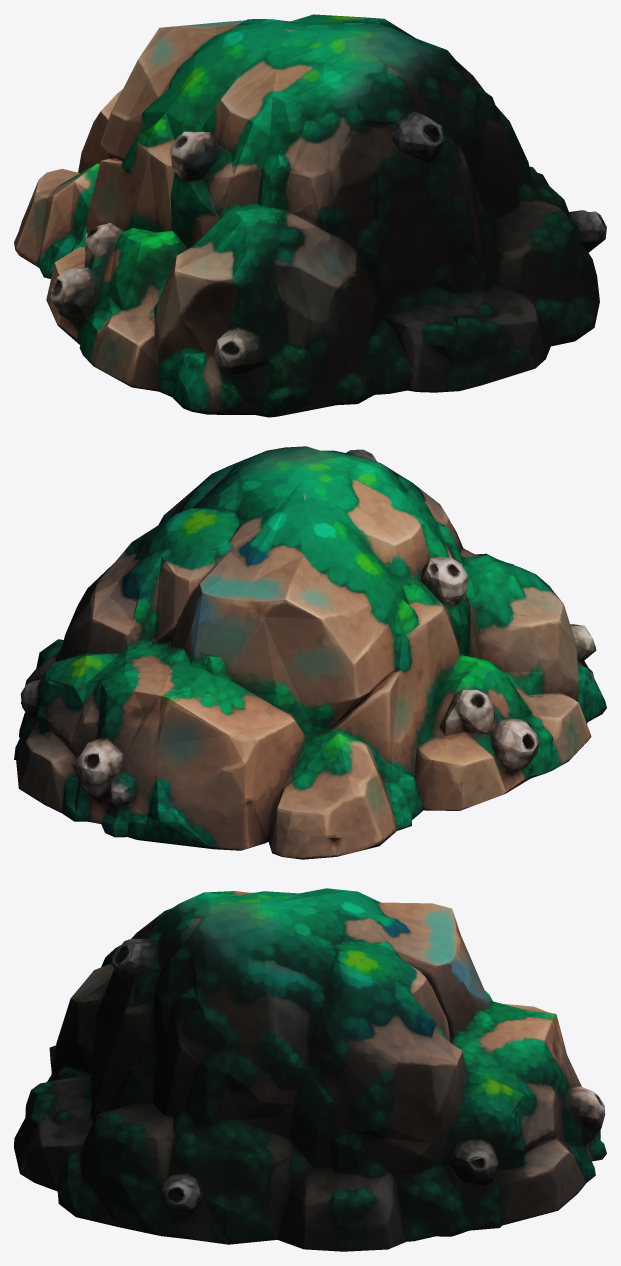
Rendered from rock_mid.glb.
3 renders of one model, top to bottom at view 1: azimuth 30°, elevation 25°; view 2: azimuth 150°, elevation 25°; view 3: azimuth 270°, elevation 25°, orthographic. The views are drawn at different scales.
Parts seen in each view (by area): view 1: world; view 2: world; view 3: world.
Part boxes in pixels (x1,y1,x2,y2): world: (14,14,606,417); world: (14,446,606,859); world: (14,888,606,1251).
Bounding box in the file's own units: 0.9248 × 0.4562 × 1.
1 material, 1 textured.
